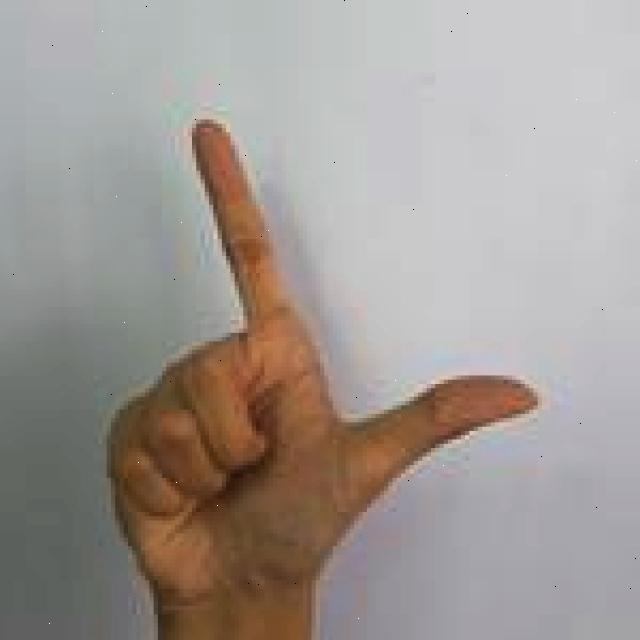L: (101, 112, 544, 640)
